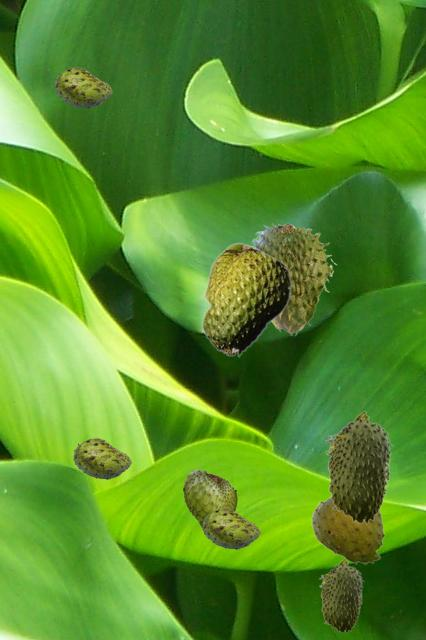guyabano: (200, 242, 291, 357), (251, 223, 336, 335), (325, 410, 392, 523), (310, 496, 384, 564), (319, 558, 363, 632), (183, 468, 236, 528), (73, 438, 130, 478), (202, 508, 259, 548), (54, 67, 111, 107)
